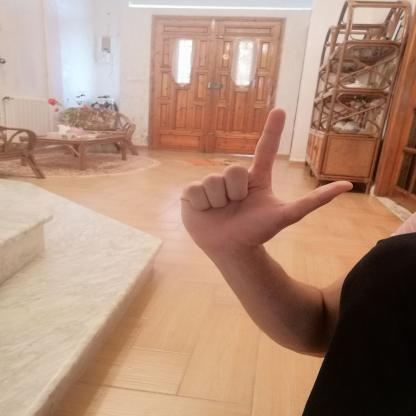LAAM: (163, 94, 367, 267)
